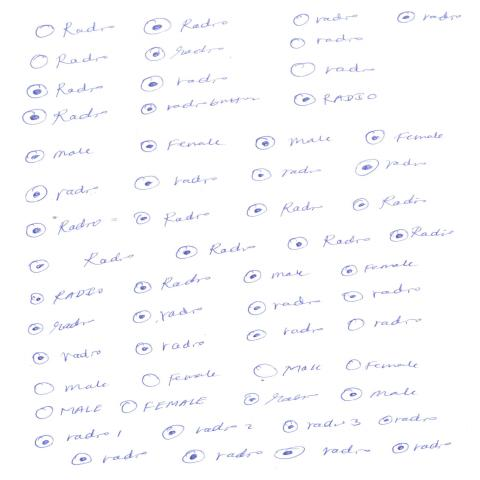Radio Button: (141, 97, 258, 115), (161, 423, 255, 442), (35, 429, 123, 449), (133, 274, 212, 295), (141, 74, 228, 93), (120, 397, 209, 415), (22, 108, 109, 126), (248, 296, 322, 317), (343, 284, 422, 303), (25, 184, 99, 204), (176, 243, 258, 261), (26, 219, 103, 238), (247, 324, 324, 343), (144, 18, 229, 35), (182, 448, 265, 465), (273, 446, 371, 460), (36, 22, 116, 39), (291, 62, 376, 78), (30, 288, 105, 306), (288, 235, 372, 251), (27, 83, 105, 100), (246, 202, 324, 219), (134, 211, 212, 228), (341, 261, 419, 278), (141, 371, 219, 388), (355, 159, 428, 177), (145, 46, 225, 62), (348, 315, 423, 332), (30, 54, 109, 70), (133, 307, 203, 325), (353, 195, 427, 212), (255, 135, 333, 151), (366, 130, 444, 146), (283, 418, 361, 434), (134, 176, 217, 191), (27, 318, 96, 336), (140, 139, 227, 153), (71, 451, 147, 467), (294, 93, 378, 107), (341, 387, 419, 402), (243, 392, 320, 407), (251, 167, 323, 183), (24, 148, 95, 164), (34, 381, 109, 396), (289, 35, 363, 50), (32, 350, 101, 366), (36, 405, 104, 421), (390, 227, 455, 243), (136, 341, 205, 356), (243, 270, 310, 285), (253, 364, 322, 378), (293, 14, 360, 28), (392, 441, 453, 455), (347, 360, 419, 371), (397, 12, 462, 24), (378, 414, 438, 427)
